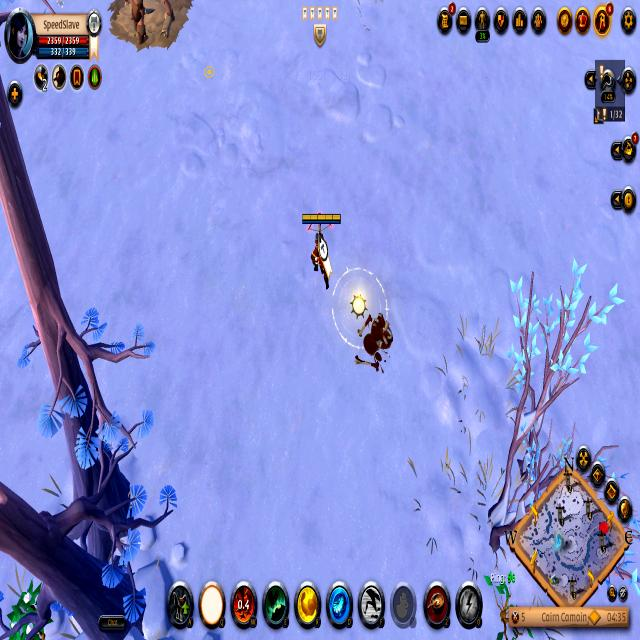ore: (124, 0, 154, 55)
red: (299, 208, 342, 292)
